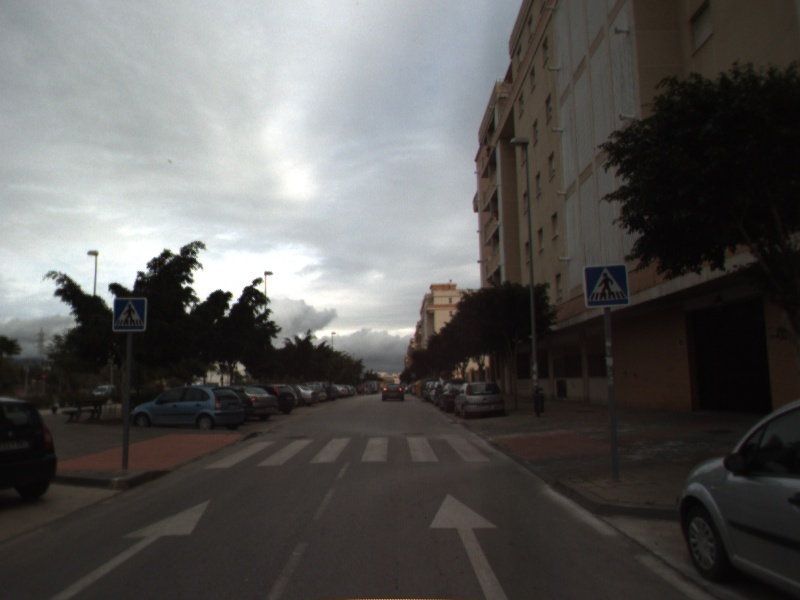STRAIGHT: (47, 498, 213, 600), (427, 491, 511, 600)
